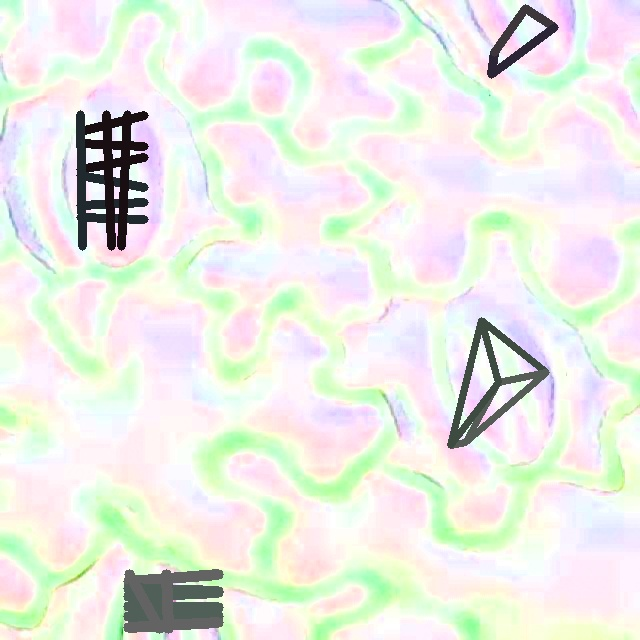close: (76, 111, 148, 249)
open: (448, 318, 549, 445), (124, 570, 222, 632), (490, 4, 557, 77)
